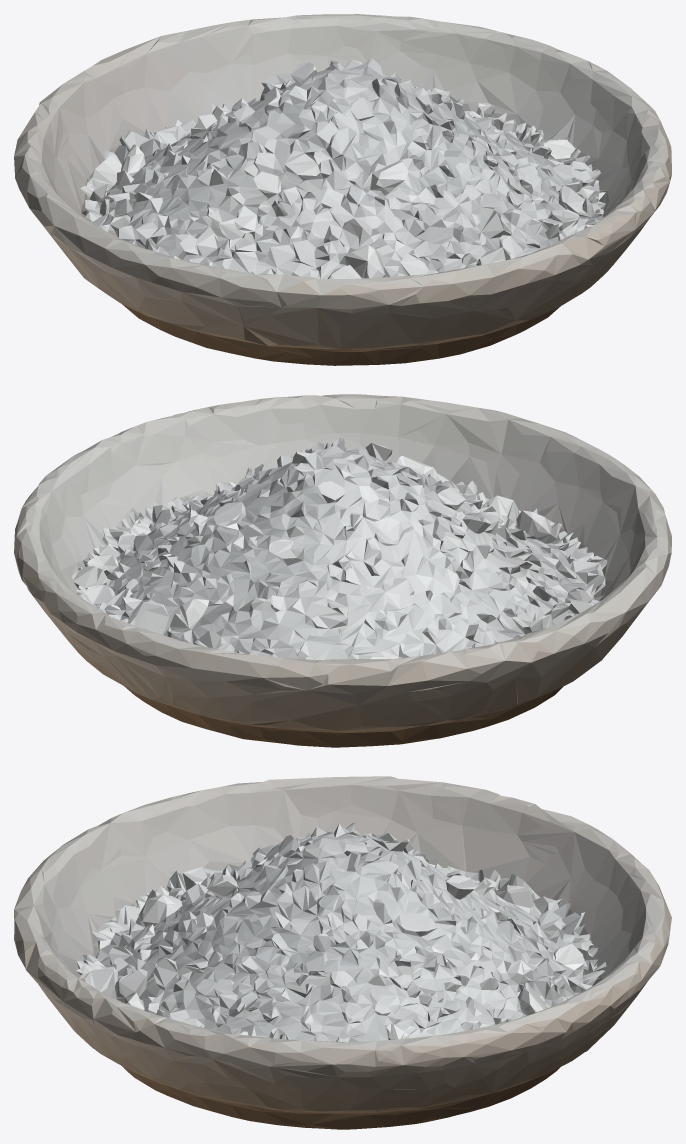
The model's file is salt.glb.
The picture shows the model from 3 angles, top to bottom: view 1: azimuth 30°, elevation 25°; view 2: azimuth 150°, elevation 25°; view 3: azimuth 270°, elevation 25°; orthographic projection.
Parts seen in each view (by area): view 1: geometry_0; view 2: geometry_0; view 3: geometry_0.
Part boxes in pixels (x1=…): geometry_0: x1=14, y1=14, x2=671, y2=365; geometry_0: x1=14, y1=394, x2=671, y2=747; geometry_0: x1=14, y1=776, x2=671, y2=1129.
Bounding box in the file's own units: 0.085 × 0.0278 × 0.0845.
Materials: 1 (1 with a texture image).
